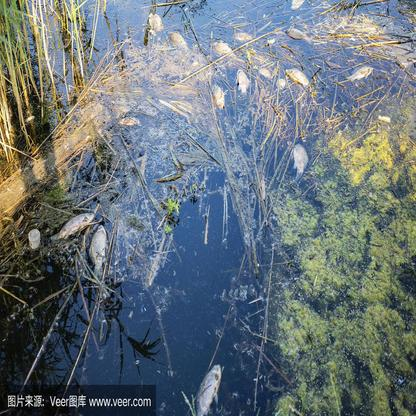deceased fish: (49, 210, 94, 249), (195, 361, 224, 414), (90, 223, 110, 285), (292, 142, 310, 184), (231, 65, 252, 97)
